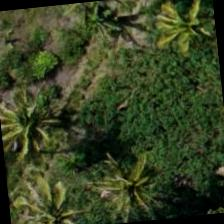Kelapa_Sawit: (77, 141, 176, 223), (0, 74, 73, 172), (6, 166, 95, 223)
